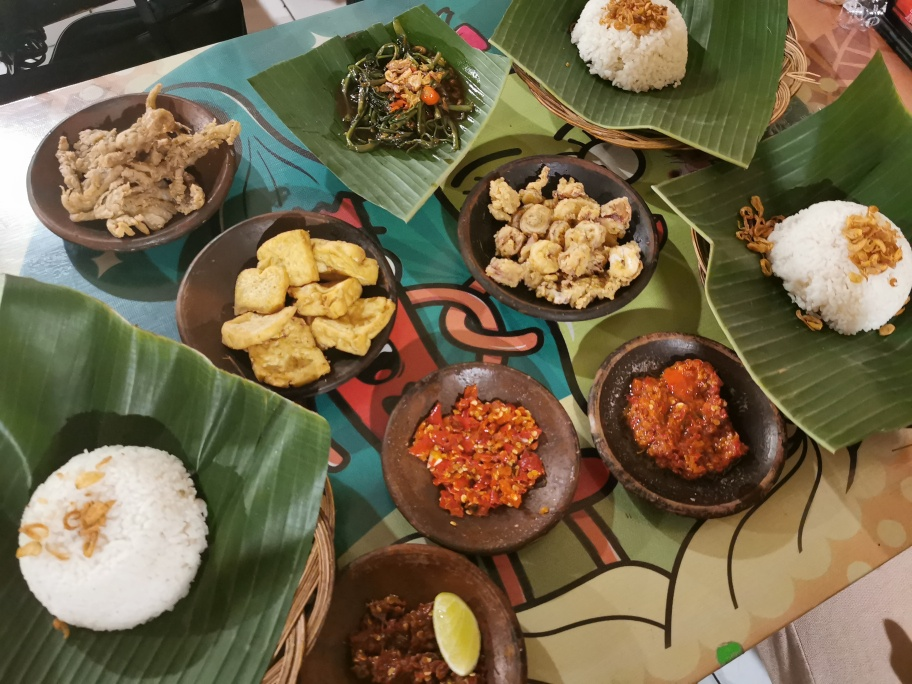nasi putih: (18, 441, 209, 637), (760, 200, 912, 334), (576, 1, 689, 95)
